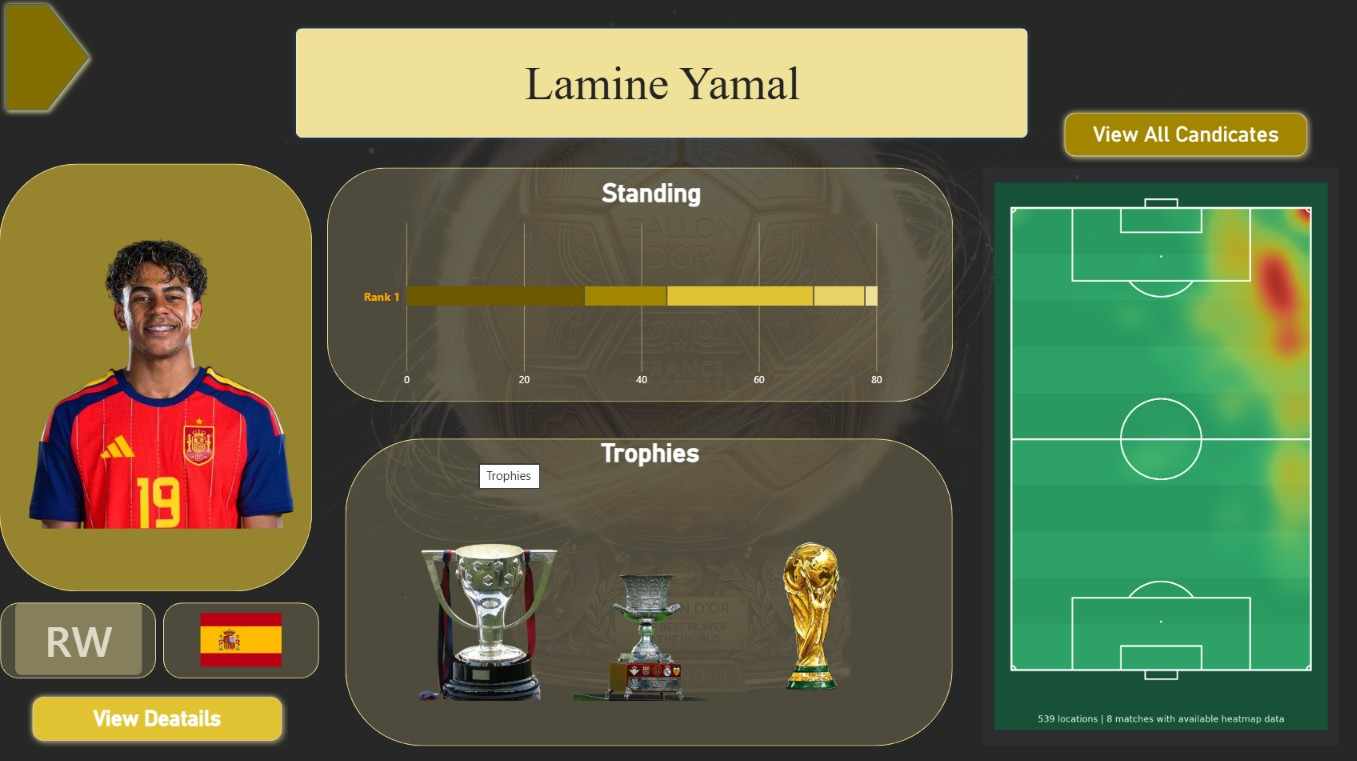

Layout of this report page (visuals, bound fields, positions):
{"tool":"powerbi","page":{"name":"Overview","canvas":[1920,1080],"ordinal":1},"visuals":[{"type":"shape","box":[0,234,441.3,603.5],"z":1000},{"type":"imageDB603108E3FF4EBFB8047F5653368E8C","fields":{"imageUrl":["Candicates.Image_URL"]},"box":[2,0,450,1080],"z":2000},{"type":"shape","box":[232,854,219.7,107],"z":4000},{"type":"cardVisual","fields":{"Data":["Min(Candicates.Position)"]},"box":[22,854,179.1,102.9],"z":4500},{"type":"shape","box":[462,240,882.7,330.4],"z":5000},{"type":"shape","box":[2,854,219.7,107],"z":5500},{"type":"shape","box":[488,622,856.7,433.5],"z":6000},{"type":"imageDB603108E3FF4EBFB8047F5653368E8C","fields":{"imageUrl":["Candicates.Image_Nation_URL"]},"box":[232,854,220,106],"z":7000},{"type":"imageDB603108E3FF4EBFB8047F5653368E8C","title":"Heat Map","fields":{"imageUrl":["Candicates.Heat_map"]},"box":[1388,240,502,816],"z":8000},{"type":"actionButton","title":"View Details","box":[38,978,369.5,79.6],"z":9000},{"type":"cardVisual","fields":{"Data":["Min(Candicates.PlayerName)"]},"box":[408,32,1054,176],"z":10000},{"type":"actionButton","box":[1494,154,360,79.1],"z":11000},{"type":"barChart","title":"Standing","fields":{"Category":["Candicates.Standing Rank Label"],"Series":["ScoreComponents.Component"],"Y":["CandidateSummary.Standing Component Value"]},"box":[496,240,847.7,329.7],"z":12000},{"type":"imageDB603108E3FF4EBFB8047F5653368E8C","fields":{"imageUrl":["Candicates.CUP per person"],"tooltipData":["Achievements (2).Achievements"]},"box":[488,648,856,432],"z":13000},{"type":"textbox","title":"Trophies","box":[572,620,694,126],"z":14000},{"type":"shape","box":[0,0,136,168],"z":15000}]}

Visuals, with their boxes in screenshot pixels (x1, y1, x2, y2), scaled from the page's 1920x1080 canvas onto the 1357x761 screenshot:
shape: locate(0, 165, 312, 590)
imageDB603108E3FF4EBFB8047F5653368E8C - Candicates.Image_URL: locate(1, 0, 319, 760)
shape: locate(164, 602, 319, 677)
cardVisual - Min(Candicates.Position): locate(16, 602, 142, 674)
shape: locate(327, 169, 950, 402)
shape: locate(1, 602, 157, 677)
shape: locate(345, 438, 950, 744)
imageDB603108E3FF4EBFB8047F5653368E8C - Candicates.Image_Nation_URL: locate(164, 602, 319, 676)
"Heat Map" imageDB603108E3FF4EBFB8047F5653368E8C: locate(981, 169, 1336, 744)
"View Details" actionButton: locate(27, 689, 288, 745)
cardVisual - Min(Candicates.PlayerName): locate(288, 23, 1033, 147)
actionButton: locate(1056, 109, 1310, 164)
"Standing" barChart: locate(351, 169, 950, 401)
imageDB603108E3FF4EBFB8047F5653368E8C - Candicates.CUP per person x Achievements (2).Achievements: locate(345, 457, 950, 760)
"Trophies" textbox: locate(404, 437, 895, 526)
shape: locate(0, 0, 96, 118)
